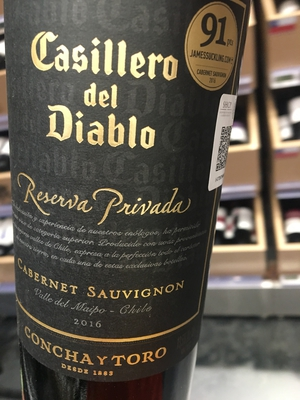casillero del diablo reserva privada cabernet sauvignon: (4, 4, 246, 400)
